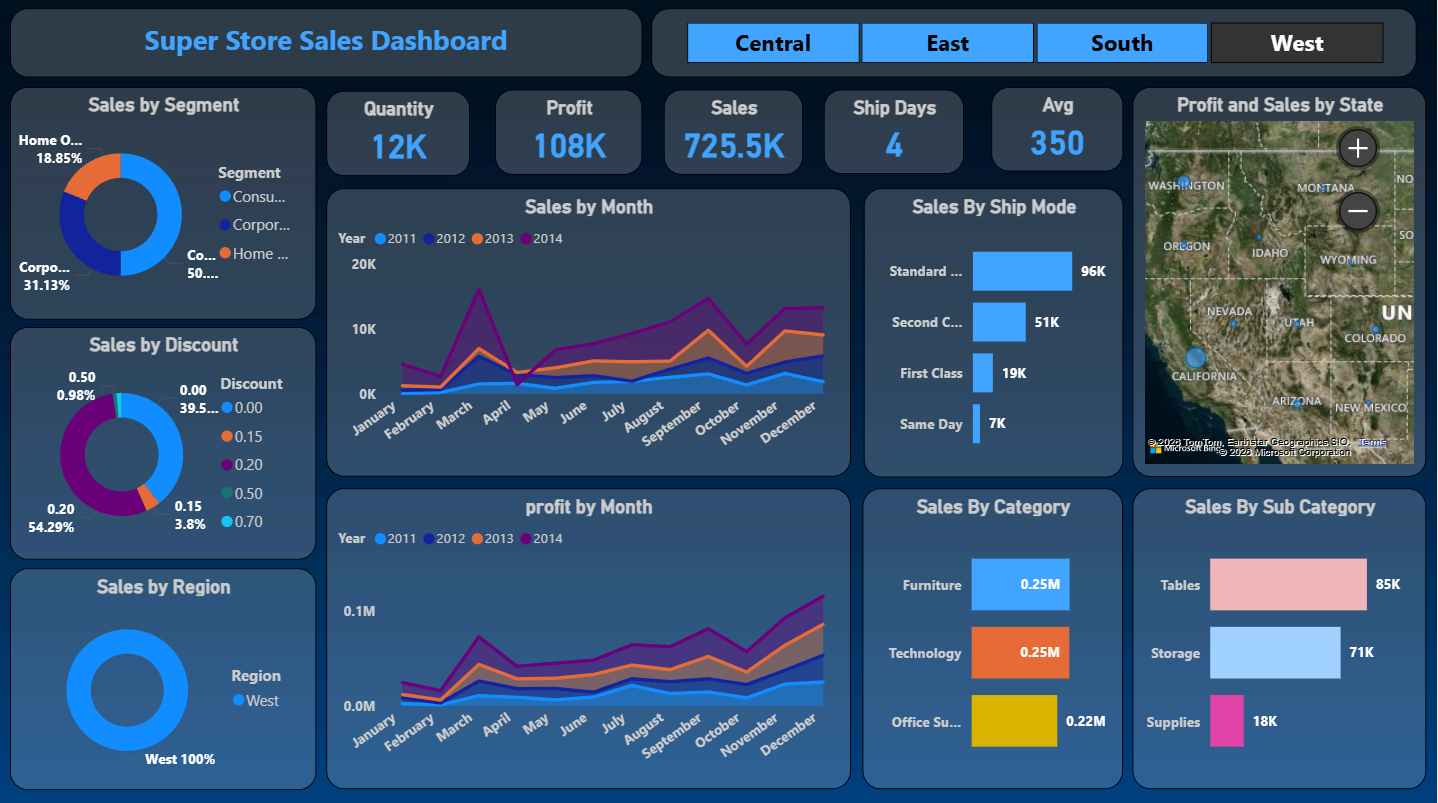

The dashboard page shown, as its layout file describes it:
{"tool":"powerbi","page":{"name":"Page 1","canvas":[1280,720],"ordinal":0},"visuals":[{"type":"clusteredBarChart","title":" Sales By Category","fields":{"Category":["Superstore.Category"],"Y":["Sum(Superstore.Sales)"]},"box":[768.5,437.9,231.6,267.8],"z":0},{"type":"clusteredBarChart","title":" Sales By Sub Category","fields":{"Category":["Superstore.Sub-Category"],"Y":["Sum(Superstore.Sales)"]},"box":[1008.6,437.9,261.8,267.8],"z":1000},{"type":"clusteredBarChart","title":" Sales By Ship Mode","fields":{"Category":["Superstore.Ship Mode"],"Y":["Sum(Superstore.Sales)"]},"box":[768.8,170,231.2,257.5],"z":2000},{"type":"stackedAreaChart","title":"profit by Month ","fields":{"Category":["Superstore.Order Date.Variation.Date Hierarchy.Month"],"Y":["Sum(Superstore.Sales)"],"Series":["Superstore.Order Date.Variation.Date Hierarchy.Year"]},"box":[290.8,437.9,466.9,267.8],"z":3000},{"type":"stackedAreaChart","title":"Sales by Month ","fields":{"Category":["Superstore.Order Date.Variation.Date Hierarchy.Month"],"Series":["Superstore.Order Date.Variation.Date Hierarchy.Year"],"Y":["Sum(Superstore.Profit)"]},"box":[290.8,170.1,466.9,257],"z":4000},{"type":"map","title":"Profit and Sales by State","fields":{"Category":["Superstore.State"],"Size":["Sum(Superstore.Sales)"]},"box":[1008.6,79.6,261.8,347.5],"z":5000},{"type":"donutChart","title":"Sales by Segment","fields":{"Category":["Superstore.Segment"],"Y":["Sum(Superstore.Sales)"]},"box":[8.4,79.6,272.7,207.5],"z":6000},{"type":"donutChart","title":" Sales by Discount","fields":{"Y":["Sum(Superstore.Sales)"],"Series":["Superstore.Discount"]},"box":[8.8,293.8,272.5,207.5],"z":7000},{"type":"slicer","fields":{"Values":["Superstore.Region"]},"box":[580.3,9.7,681.6,61.5],"z":8000},{"type":"textbox","box":[8.4,9.7,563.4,61.5],"z":9000},{"type":"card","title":"Sales","fields":{"Values":["Sum(Superstore.Sales)"]},"box":[591.2,82,124.3,76],"z":10000},{"type":"card","title":"Quantity","fields":{"Values":["Sum(Superstore.Quantity)"]},"box":[290.8,83.2,127.9,76],"z":11000},{"type":"card","title":"Profit","fields":{"Values":["Sum(Superstore.Profit)"]},"box":[440.4,82,131.5,76],"z":12000},{"type":"card","title":"Ship Days","fields":{"Values":["Avg(Superstore.Average Delivery)"]},"box":[733.8,82.5,125,75],"z":13000},{"type":"donutChart","title":" Sales by Region","fields":{"Category":["Superstore.Region"],"Y":["Sum(Superstore.Sales)"]},"box":[8.8,508.8,272.5,197.5],"z":14000},{"type":"card","title":"Avg","fields":{"Values":["Sum(Superstore.Discount)"]},"box":[882.5,80,117.5,75],"z":15000}]}

Visuals, with their boxes in screenshot pixels (x1, y1, x2, y2), scaled from the page's 1280x720 canvas onto the 1438x803 screenshot:
" Sales By Category" clusteredBarChart: Rect(863, 488, 1124, 787)
" Sales By Sub Category" clusteredBarChart: Rect(1133, 488, 1427, 787)
" Sales By Ship Mode" clusteredBarChart: Rect(864, 190, 1123, 477)
"profit by Month " stackedAreaChart: Rect(327, 488, 851, 787)
"Sales by Month " stackedAreaChart: Rect(327, 190, 851, 476)
"Profit and Sales by State" map: Rect(1133, 89, 1427, 476)
"Sales by Segment" donutChart: Rect(9, 89, 316, 320)
" Sales by Discount" donutChart: Rect(10, 328, 316, 559)
slicer - Superstore.Region: Rect(652, 11, 1418, 79)
textbox: Rect(9, 11, 642, 79)
"Sales" card: Rect(664, 91, 804, 176)
"Quantity" card: Rect(327, 93, 470, 178)
"Profit" card: Rect(495, 91, 642, 176)
"Ship Days" card: Rect(824, 92, 965, 176)
" Sales by Region" donutChart: Rect(10, 567, 316, 788)
"Avg" card: Rect(991, 89, 1123, 173)
